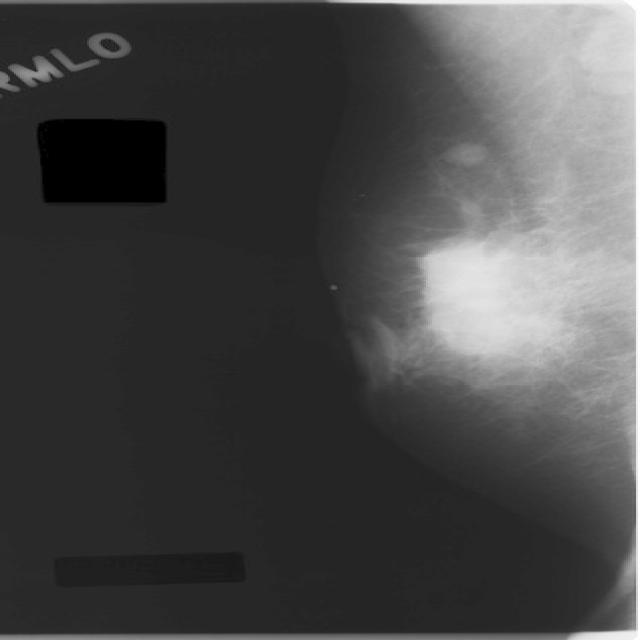tumour: (416, 238, 547, 354), (436, 140, 487, 164)
